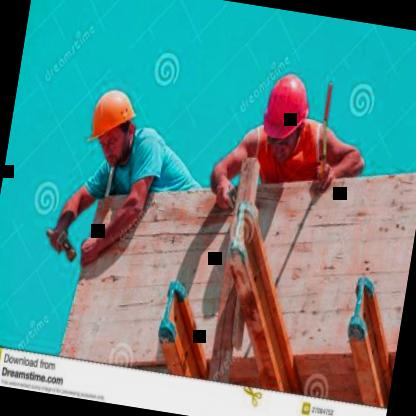helmet: (252, 60, 320, 171), (82, 78, 146, 170)
